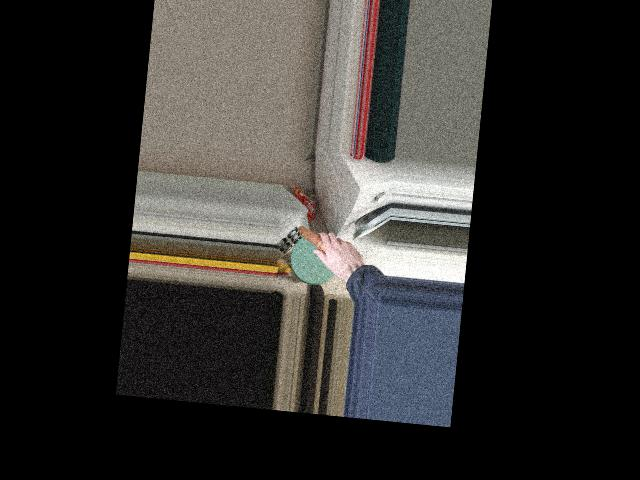sweet_potato: (296, 225, 351, 268)
